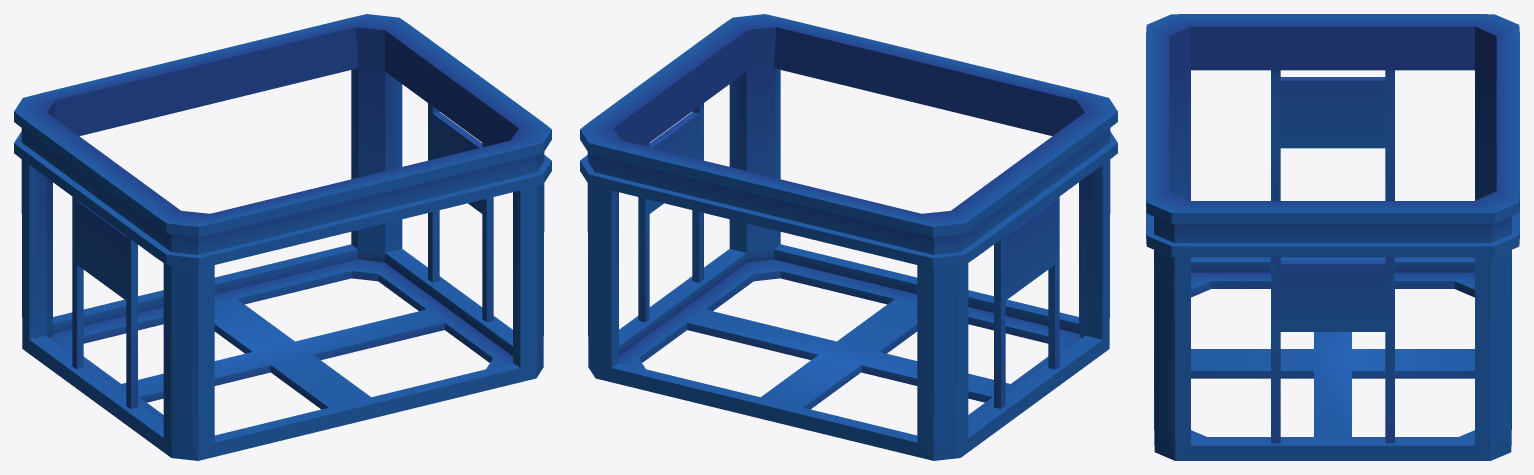
File: PlasticboxYellow_SM.fbx
3 renders of one model, left to right at view 1: azimuth 30°, elevation 25°; view 2: azimuth 150°, elevation 25°; view 3: azimuth 270°, elevation 25°, orthographic. The views are drawn at different scales.
Visible parts, largest first — view 1: PlasticboxYellow_SM; view 2: PlasticboxYellow_SM; view 3: PlasticboxYellow_SM.
Boxes of the visible parts, x1,y1,x2,y2 form: PlasticboxYellow_SM: [14, 14, 551, 460]; PlasticboxYellow_SM: [580, 14, 1117, 460]; PlasticboxYellow_SM: [1146, 14, 1519, 460].
Size of the model in its own units: 65.45 by 38.89 by 51.88.
